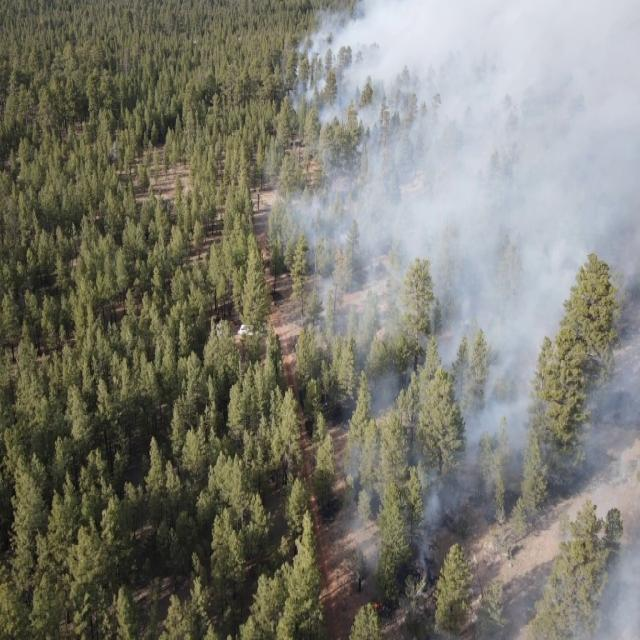fire: (373, 600, 383, 612)
smoke: (276, 0, 640, 454), (337, 450, 640, 640)
